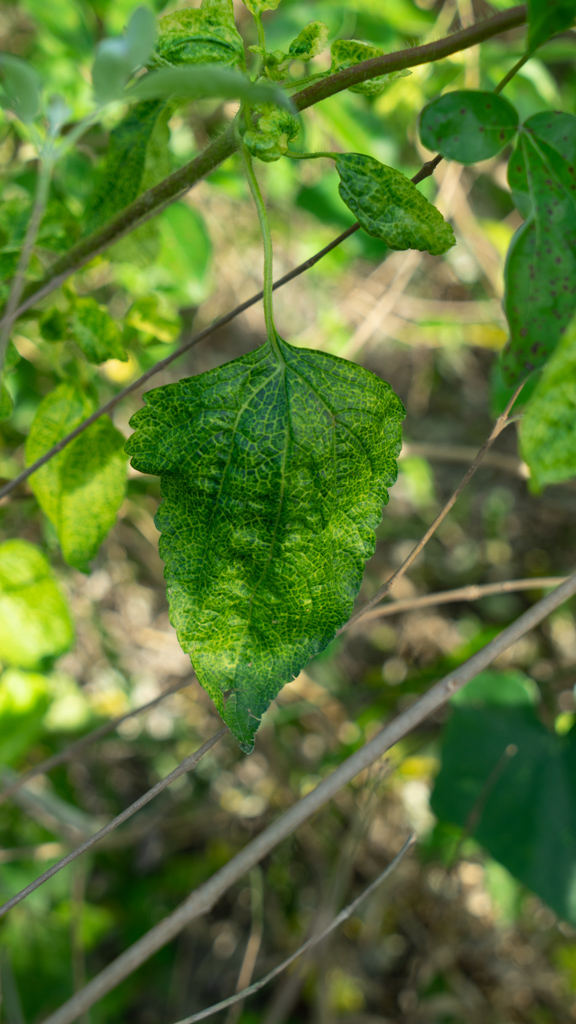Alternaria brassicicola: (502, 128, 569, 495)
Leaf Curl Disease: (117, 342, 409, 738), (321, 145, 455, 253)
Ragged Stunt Disease: (128, 10, 252, 80), (232, 104, 313, 165), (258, 21, 327, 71)
